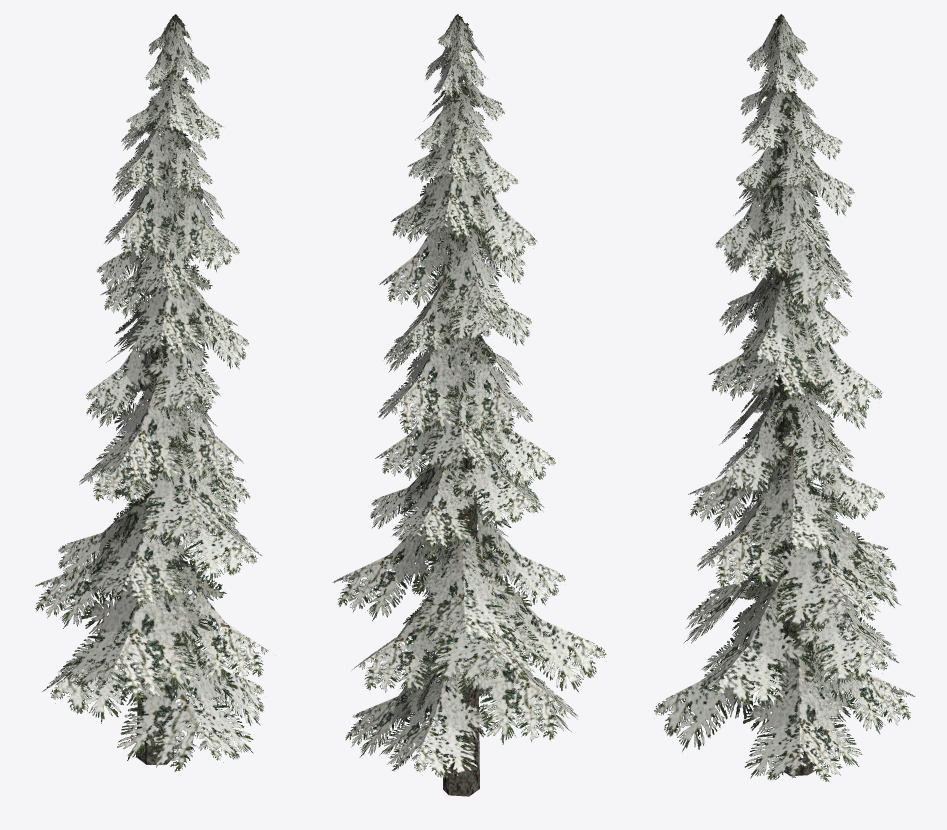
File: flora_tree_fir_winter_v2.glb
The picture shows the model from 3 angles, left to right: view 1: azimuth 30°, elevation 25°; view 2: azimuth 150°, elevation 25°; view 3: azimuth 270°, elevation 25°; orthographic projection. The views are drawn at different scales.
Parts seen in each view (by area): view 1: flora_tree_fir_winter_v2_part0; view 2: flora_tree_fir_winter_v2_part0; view 3: flora_tree_fir_winter_v2_part0.
Boxes of the visible parts, x1=… form: flora_tree_fir_winter_v2_part0: x1=35, y1=14, x2=268, y2=771; flora_tree_fir_winter_v2_part0: x1=332, y1=14, x2=606, y2=796; flora_tree_fir_winter_v2_part0: x1=654, y1=14, x2=914, y2=781.
Size of the model in its own units: 5.02 by 13.84 by 4.75.
1 material, 1 textured.
